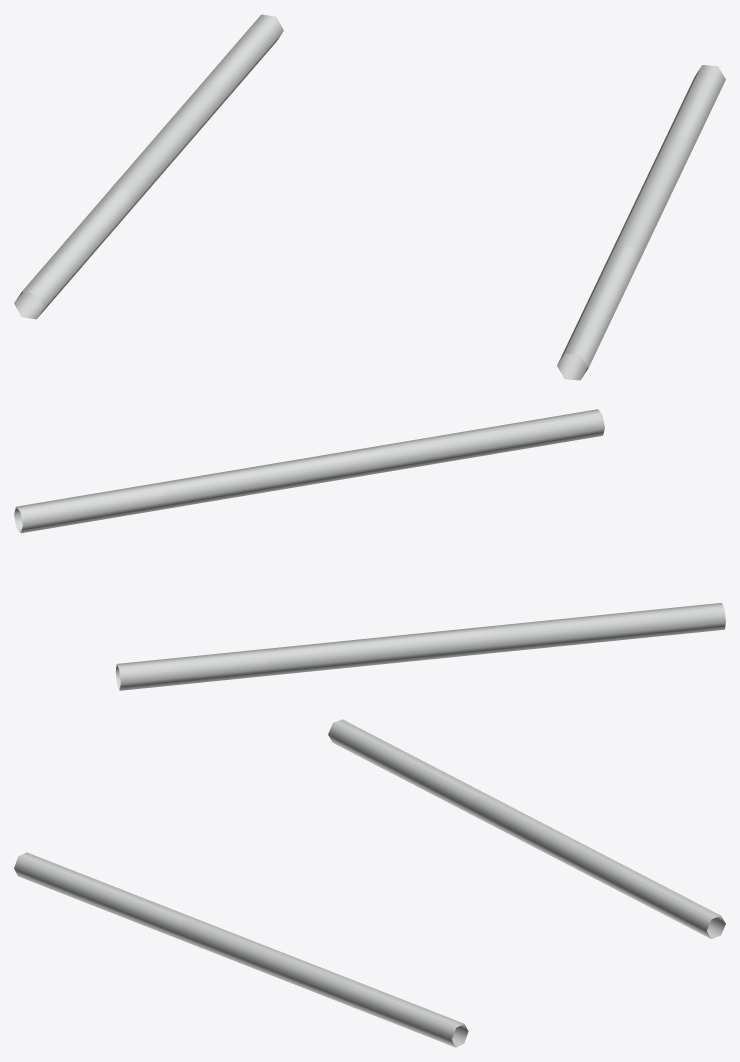
Rendered from nycsignalarm_diagonal6_c4.obj.
3 views of the same model, one above another, from view 1: azimuth 30°, elevation 25°; view 2: azimuth 150°, elevation 25°; view 3: azimuth 270°, elevation 25° (orthographic). The views are drawn at different scales.
Visible parts, largest first — view 1: nycsignalarm_diagonal6_c4; view 2: nycsignalarm_diagonal6_c4; view 3: nycsignalarm_diagonal6_c4.
Boxes of the visible parts, left/top/right/bottom form: nycsignalarm_diagonal6_c4: left=14, top=14, right=725, bottom=380; nycsignalarm_diagonal6_c4: left=14, top=409, right=725, bottom=690; nycsignalarm_diagonal6_c4: left=14, top=719, right=725, bottom=1047.
Size of the model in its own units: 1.74 by 0.0849 by 1.74.
